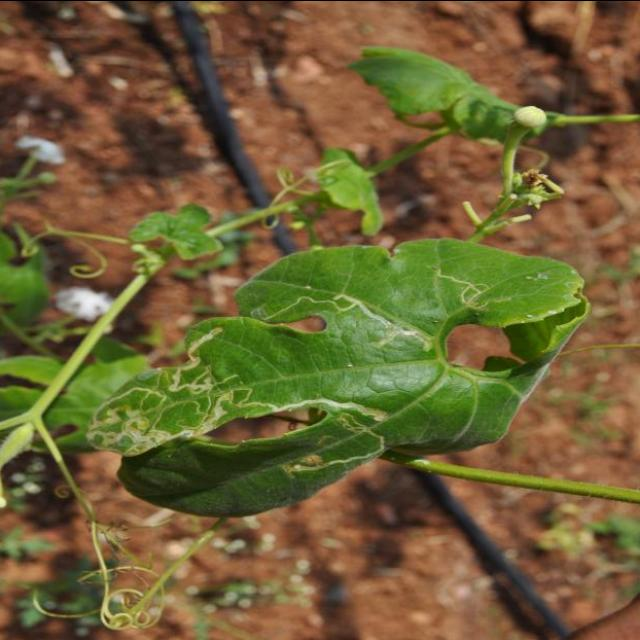Serpentine leafminer: (291, 371, 398, 448), (154, 345, 248, 427), (272, 266, 376, 332), (418, 252, 494, 316), (82, 393, 147, 451), (276, 446, 341, 481), (382, 304, 412, 312)
